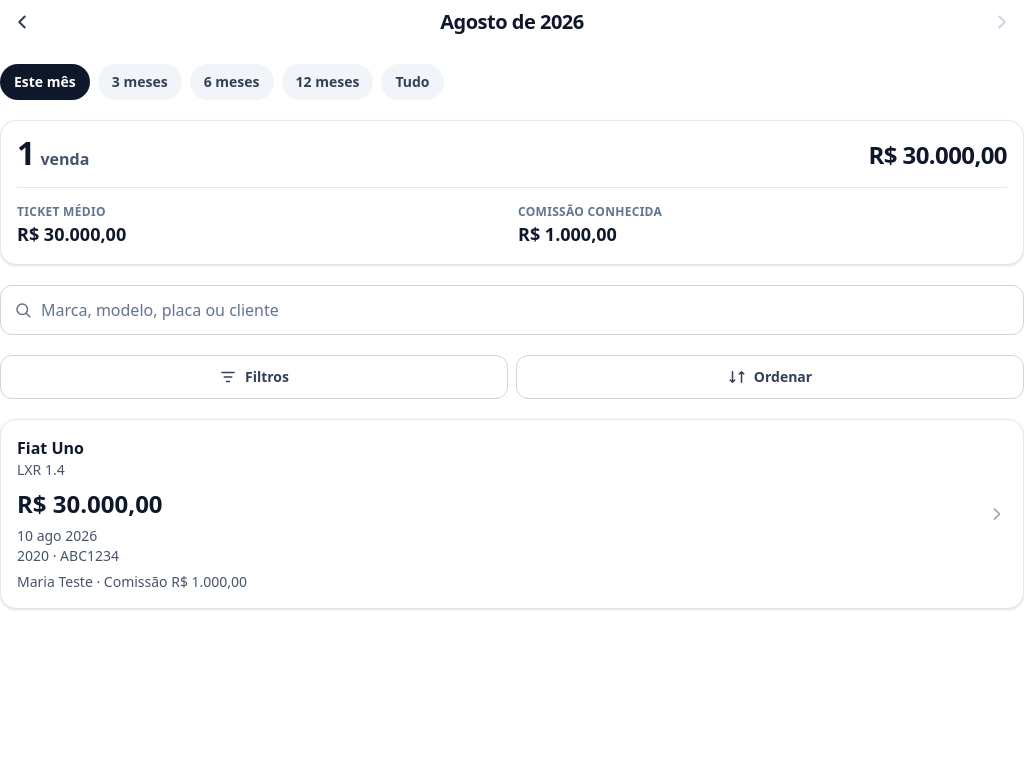
Scenario: SoldVehiclesView › opens the shared SaleDetailsSheet when a sold item is tapped — no separate detail implementation
The image size is (1024, 768).
Click the button "Fiat Uno" at (512, 514), box [0, 419, 1023, 609]
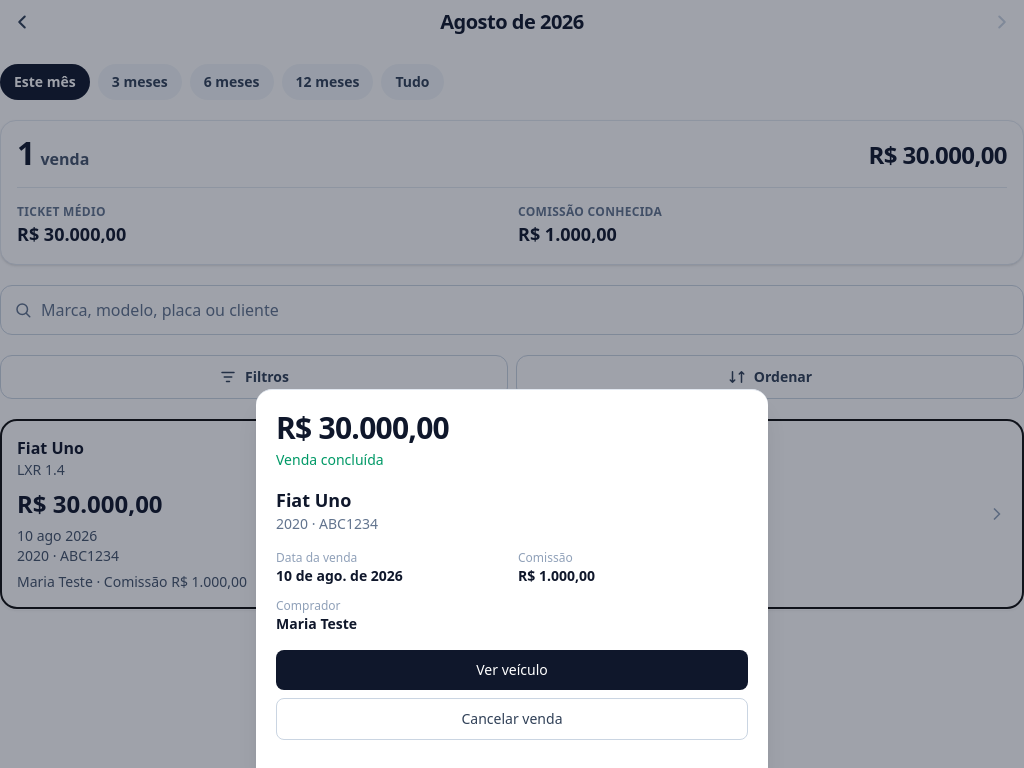
Expected: the link "Ver veículo" is shown, [276, 650, 748, 690]
